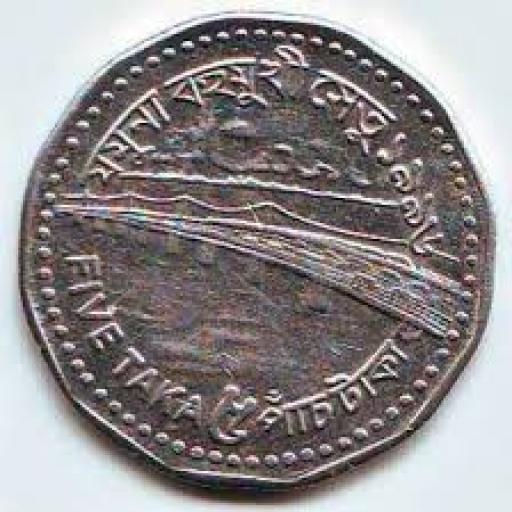5taka: (21, 16, 491, 489)
